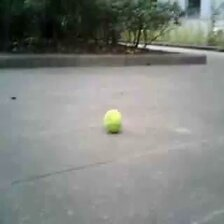tennis: (105, 109, 123, 132)
